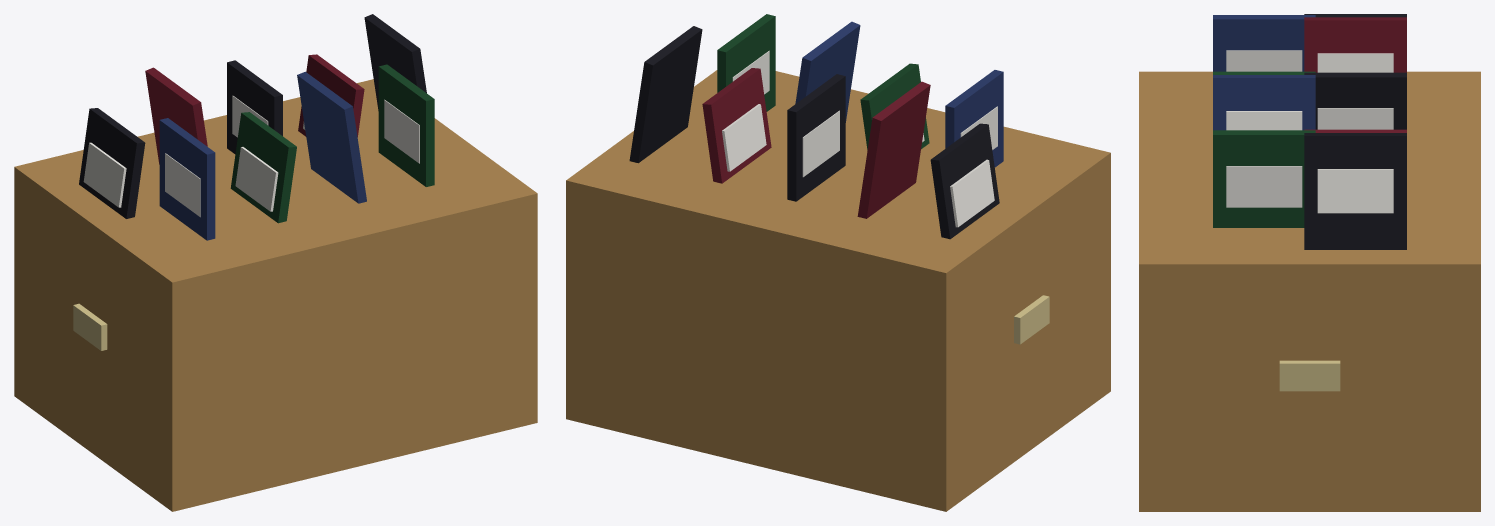
Rendered from pirate_copies_box.glb.
3 views of the same model, side by side, from view 1: azimuth 30°, elevation 25°; view 2: azimuth 150°, elevation 25°; view 3: azimuth 270°, elevation 25° (orthographic). The views are drawn at different scales.
Visible parts, largest first — view 1: box_box_card, cases, labels_white, tape_box_tape; view 2: box_box_card, cases, labels_white, tape_box_tape; view 3: box_box_card, cases, labels_white, tape_box_tape.
Part boxes in pixels (box(x1,y1,x2,y2)): box_box_card: box(14, 79, 537, 511); cases: box(79, 14, 434, 240); labels_white: box(83, 95, 419, 217); tape_box_tape: box(73, 303, 107, 350); box_box_card: box(566, 70, 1110, 511); cases: box(629, 14, 1003, 239); labels_white: box(722, 50, 997, 227); tape_box_tape: box(1014, 295, 1049, 344); box_box_card: box(1139, 71, 1480, 511); cases: box(1213, 14, 1406, 249); labels_white: box(1226, 50, 1393, 213); tape_box_tape: box(1279, 360, 1340, 391).
Size of the model in its own units: 0.62 by 0.515 by 0.45.
